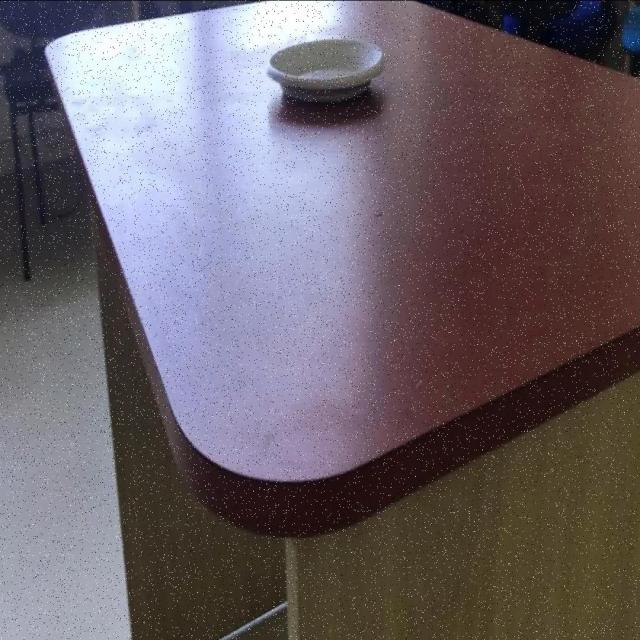Plate: (42, 0, 640, 537), (266, 36, 383, 100)
